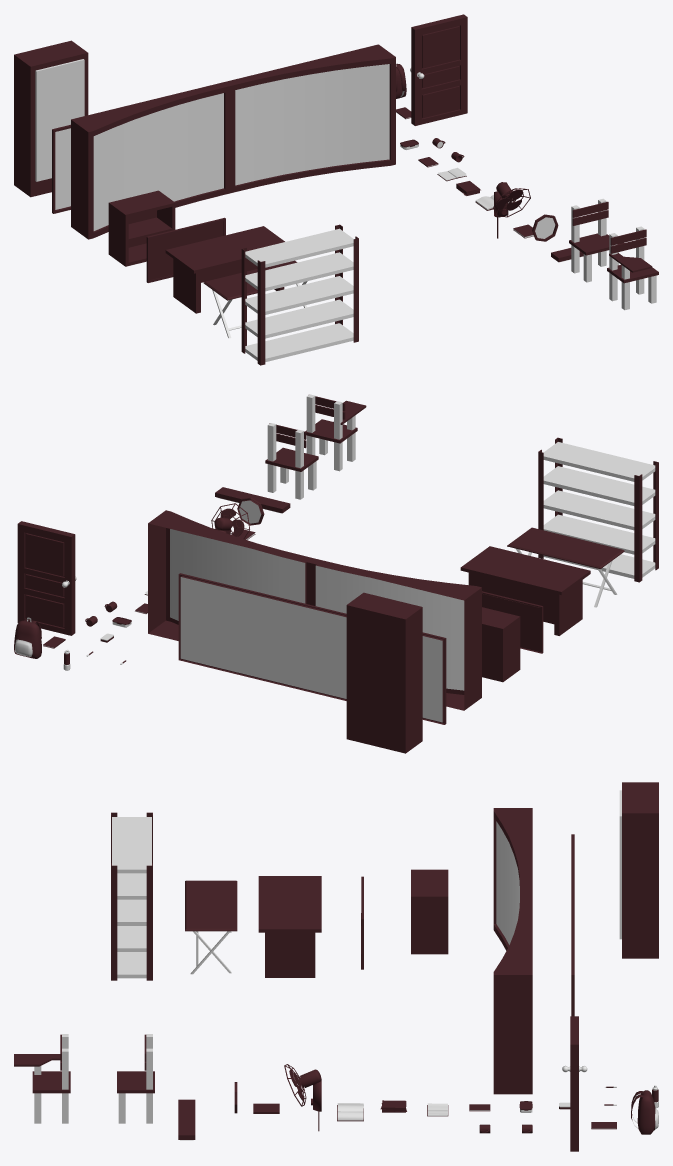
Rendered from classroom.fbx.
3 views of the same model, one above another, from view 1: azimuth 30°, elevation 25°; view 2: azimuth 150°, elevation 25°; view 3: azimuth 270°, elevation 25° (orthographic). The views are drawn at different scales.
Visible parts, largest first — view 1: msh_ClassroomBlackboard, msh_BookShelf, msh_ClassroomCabinet, msh_Door, msh_ClassroomTeacherDesk, msh_WallShelf, msh_ClassroomArmchair, msh_TV, msh_WoodenChair, msh_ClassroomWhiteboard, msh_FoldingTable, msh_ElectricFan (+1 smaller); view 2: msh_ClassroomBlackboard, msh_ClassroomWhiteboard, msh_ClassroomCabinet, msh_BookShelf, msh_ClassroomTeacherDesk, msh_Door, msh_FoldingTable, msh_ClassroomArmchair, msh_WallShelf, msh_WoodenChair, msh_TV, msh_Backpack (+3 smaller); view 3: msh_ClassroomBlackboard, msh_ClassroomCabinet, msh_BookShelf, msh_ClassroomTeacherDesk, msh_WallShelf, msh_FoldingTable, msh_ClassroomArmchair, msh_WoodenChair, msh_Door, msh_ElectricFan, msh_Backpack, msh_FluorescentLight (+1 smaller).
Boxes of the visible parts, bbox=[...] form: msh_ClassroomBlackboard: bbox=[71, 44, 395, 239]; msh_BookShelf: bbox=[241, 224, 358, 365]; msh_ClassroomCabinet: bbox=[14, 40, 88, 197]; msh_Door: bbox=[410, 14, 467, 125]; msh_ClassroomTeacherDesk: bbox=[165, 226, 284, 313]; msh_WallShelf: bbox=[108, 190, 175, 266]; msh_ClassroomArmchair: bbox=[607, 226, 658, 310]; msh_TV: bbox=[146, 217, 225, 282]; msh_WoodenChair: bbox=[569, 198, 619, 282]; msh_ClassroomWhiteboard: bbox=[52, 124, 70, 213]; msh_FoldingTable: bbox=[203, 260, 307, 338]; msh_ElectricFan: bbox=[493, 182, 530, 238]; msh_ClassroomBlackboard: bbox=[148, 510, 481, 710]; msh_ClassroomWhiteboard: bbox=[178, 573, 446, 724]; msh_ClassroomCabinet: bbox=[346, 592, 422, 753]; msh_BookShelf: bbox=[538, 437, 658, 582]; msh_ClassroomTeacherDesk: bbox=[460, 546, 590, 635]; msh_Door: bbox=[17, 521, 76, 635]; msh_FoldingTable: bbox=[507, 527, 624, 607]; msh_ClassroomArmchair: bbox=[305, 394, 366, 471]; msh_WallShelf: bbox=[482, 607, 520, 682]; msh_WoodenChair: bbox=[265, 423, 318, 499]; msh_TV: bbox=[482, 591, 543, 653]; msh_Backpack: bbox=[14, 617, 41, 658]; msh_ClassroomBlackboard: bbox=[493, 808, 532, 1094]; msh_ClassroomCabinet: bbox=[619, 782, 658, 958]; msh_BookShelf: bbox=[111, 812, 152, 980]; msh_ClassroomTeacherDesk: bbox=[258, 876, 321, 977]; msh_WallShelf: bbox=[411, 869, 448, 954]; msh_FoldingTable: bbox=[185, 880, 237, 974]; msh_ClassroomArmchair: bbox=[14, 1034, 70, 1123]; msh_WoodenChair: bbox=[117, 1034, 154, 1123]; msh_Door: bbox=[562, 1016, 587, 1151]; msh_ElectricFan: bbox=[284, 1064, 321, 1131]; msh_Backpack: bbox=[631, 1090, 658, 1134]; msh_FluorescentLight: bbox=[178, 1099, 195, 1140].
Size of the model in its own units: 1260 by 443 by 1530.
